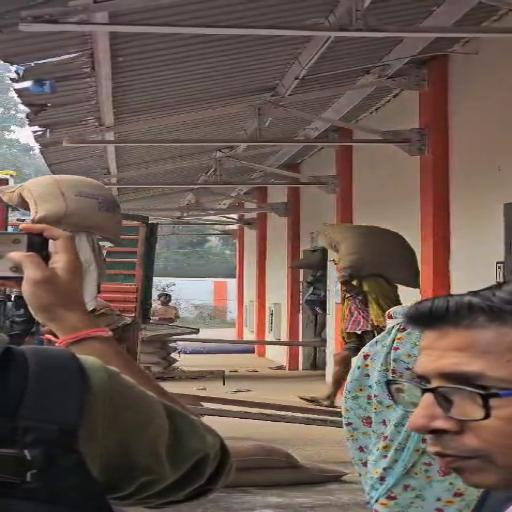bag: (2, 172, 137, 244), (309, 217, 422, 287)
